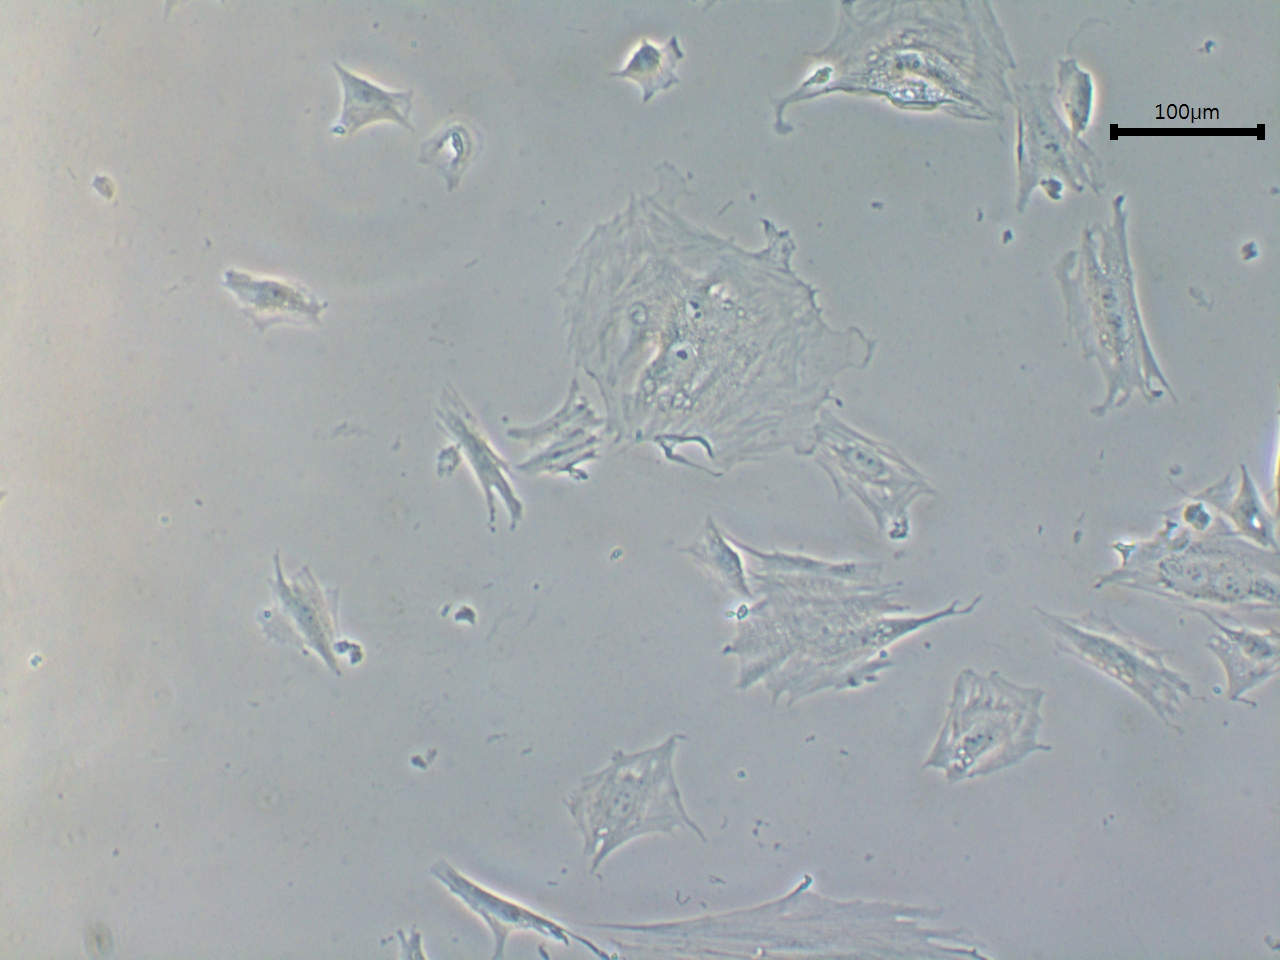dividing: (555, 173, 854, 475), (1089, 452, 1280, 606), (1059, 191, 1178, 428)
medium-polygonal: (1013, 593, 1204, 722), (424, 848, 627, 955), (418, 377, 533, 551)
medium-spread: (718, 538, 980, 709), (536, 729, 703, 890), (789, 404, 940, 537), (916, 659, 1056, 786)
small-polygonal: (233, 556, 373, 681), (310, 54, 424, 136), (675, 507, 751, 598), (224, 269, 334, 328)
small-spread: (597, 27, 687, 106)
